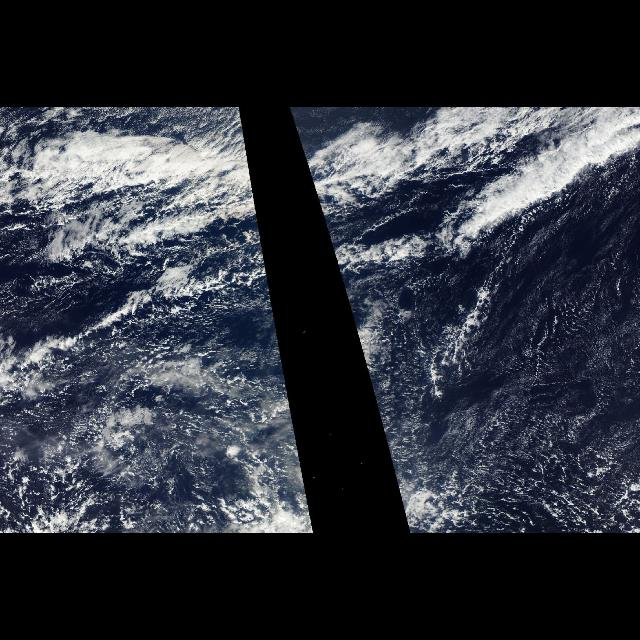Gravel: (36, 294, 262, 504), (424, 322, 640, 534)
Sugar: (511, 223, 639, 499)
